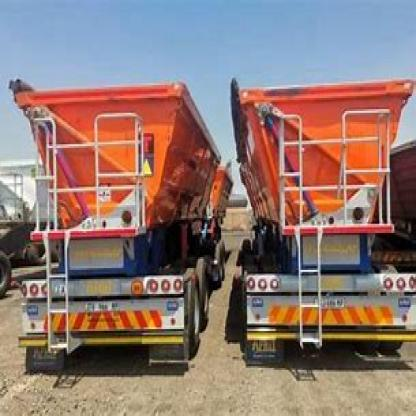dump_truck: (1, 56, 222, 374), (229, 57, 415, 366)
